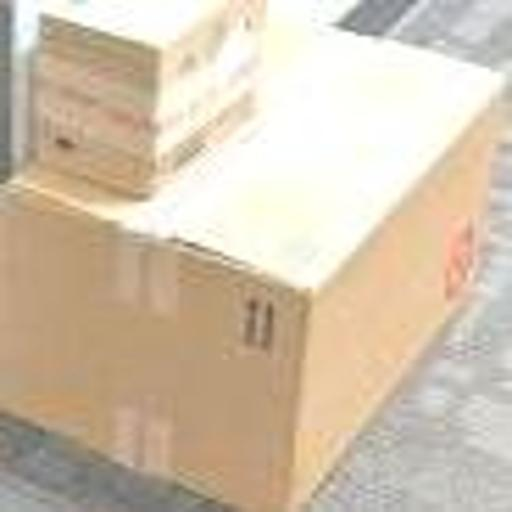Other: (29, 39, 489, 497), (11, 14, 269, 184)
